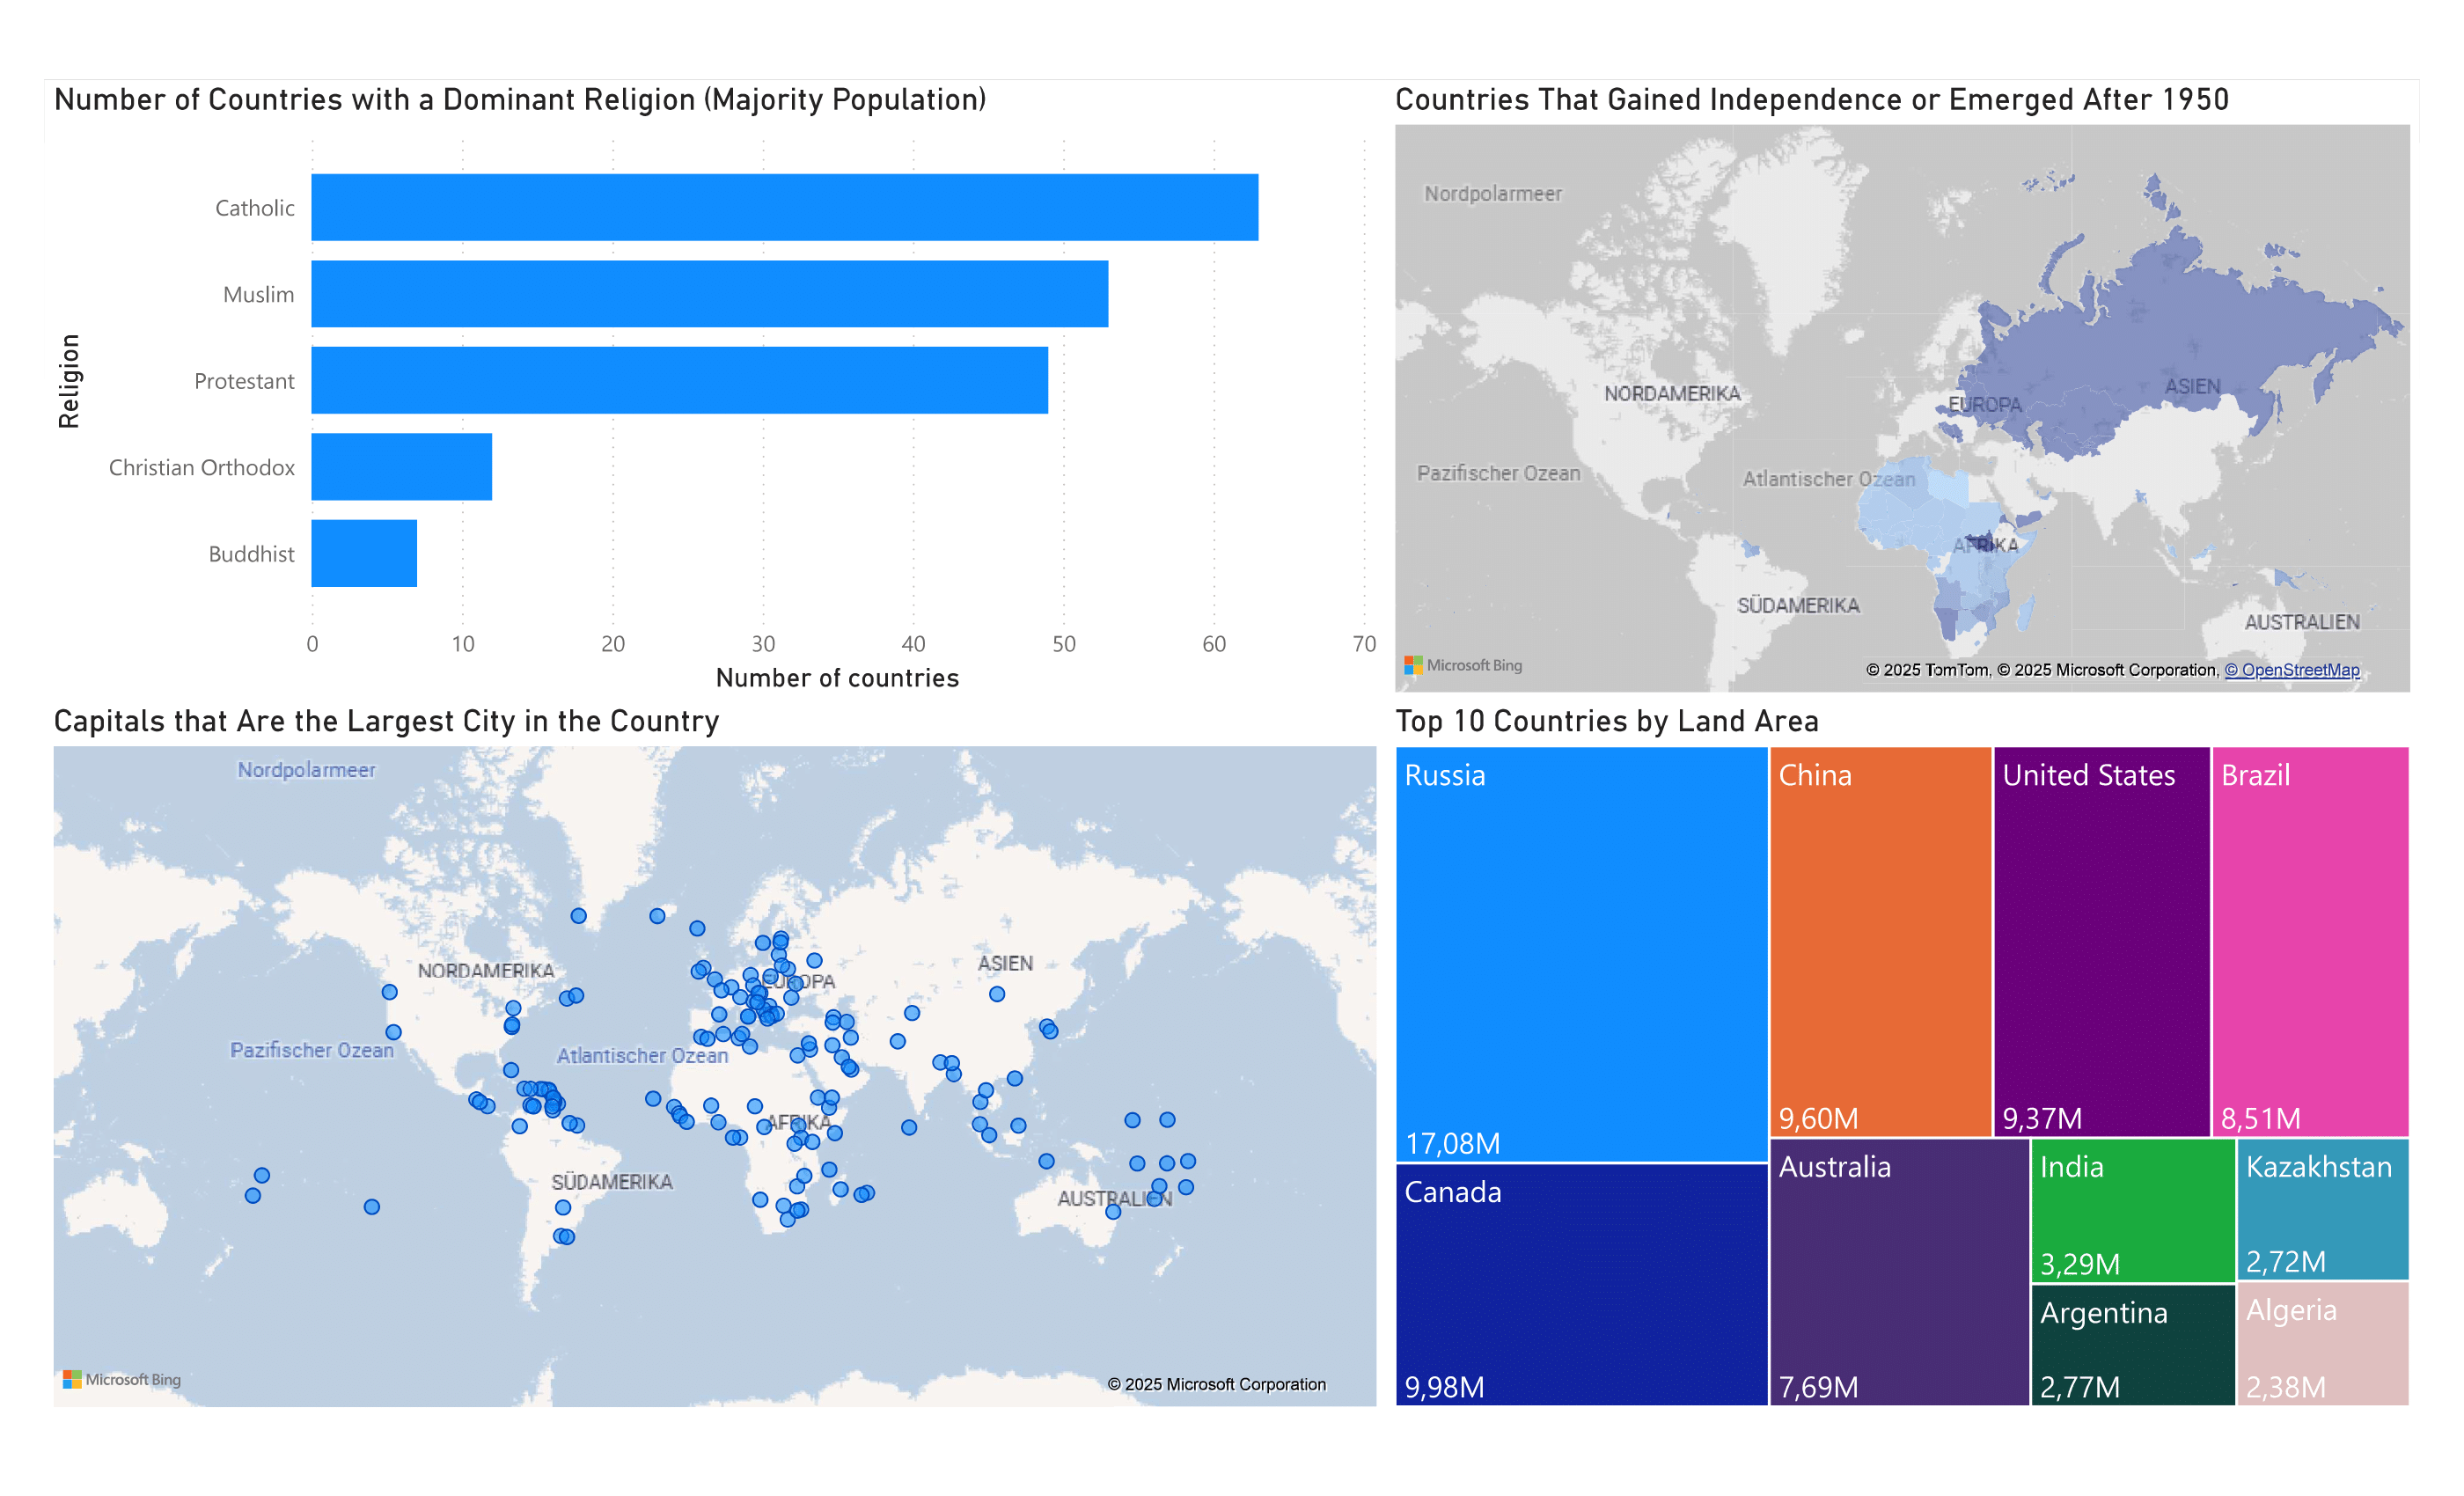

This screenshot's page, from the dashboard's own definition file:
{"tool":"powerbi","page":{"name":"Page 1","canvas":[1280,720],"ordinal":0},"visuals":[{"type":"filledMap","title":"Countries That Gained Independence or Emerged After 1950","fields":{"Category":["independance_after_1950.name"]},"box":[722.5,0,557.5,335],"z":0},{"type":"treemap","title":"Top 10 Countries by Land Area","fields":{"Group":["largest_countries_10.name"],"Values":["Avg(largest_countries_10.area)"]},"box":[722.5,335,557.5,385],"z":1000},{"type":"map","title":"Capitals that Are the Largest City in the Country","fields":{"Category":["capital_largest_city.city"]},"box":[0,335,722.5,385],"z":2000},{"type":"barChart","title":"Number of Countries with a Dominant Religion (Majority Population)","fields":{"Category":["dominant_religions_in_atleast_5.name"],"Y":["Sum(dominant_religions_in_atleast_5.count)"]},"box":[0,0,723,335],"z":3000}]}

Visuals, with their boxes on the page's 1280x720 design canvas (x1, y1, x2, y2). These are canvas units, not pixel positions in the 2464x1496 screenshot, which may show the page scaled, cropped or inside an application window:
"Countries That Gained Independence or Emerged After 1950" filledMap: <box>722,0,1280,335</box>
"Top 10 Countries by Land Area" treemap: <box>722,335,1280,720</box>
"Capitals that Are the Largest City in the Country" map: <box>0,335,722,720</box>
"Number of Countries with a Dominant Religion (Majority Population)" barChart: <box>0,0,723,335</box>
